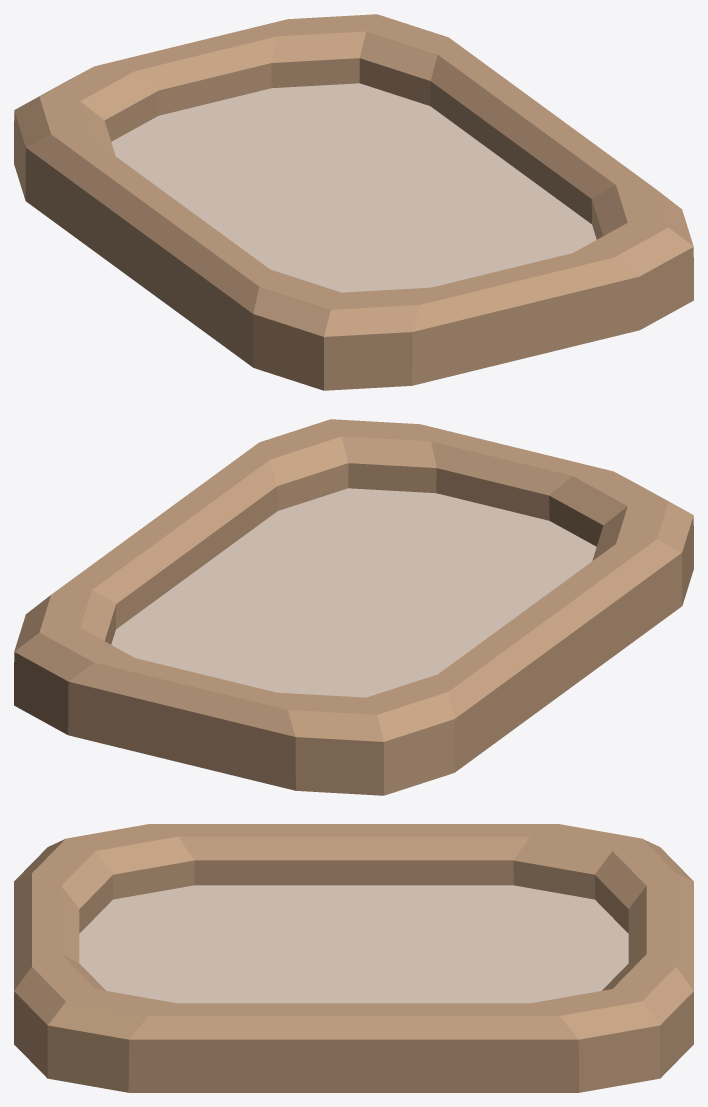
Rendered from catbed.glb.
3 views of the same model, one above another, from view 1: azimuth 30°, elevation 25°; view 2: azimuth 150°, elevation 25°; view 3: azimuth 270°, elevation 25° (orthographic).
Visible parts, largest first — view 1: Cube; view 2: Cube; view 3: Cube.
Part boxes in pixels (x1=…): Cube: x1=14, y1=14, x2=693, y2=390; Cube: x1=14, y1=419, x2=693, y2=795; Cube: x1=14, y1=824, x2=693, y2=1092.
Size of the model in its own units: 0.36 by 0.0563 by 0.5.
Materials: 1 (1 with a texture image).
